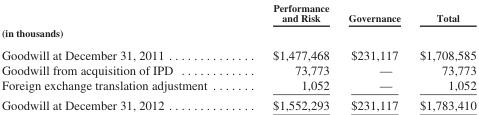table: (0, 1, 475, 111)
table column: (0, 1, 239, 111), (239, 1, 338, 111), (338, 1, 409, 111), (409, 1, 475, 111)
table column header: (0, 1, 475, 24)
table projected row header: (0, 24, 475, 42)
table row: (0, 1, 475, 24), (0, 42, 475, 61), (0, 24, 475, 42), (0, 77, 475, 94), (0, 94, 475, 111), (0, 61, 475, 77)
